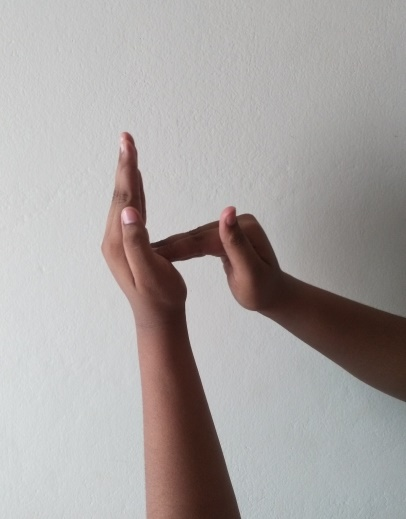ga: (102, 132, 280, 319)
